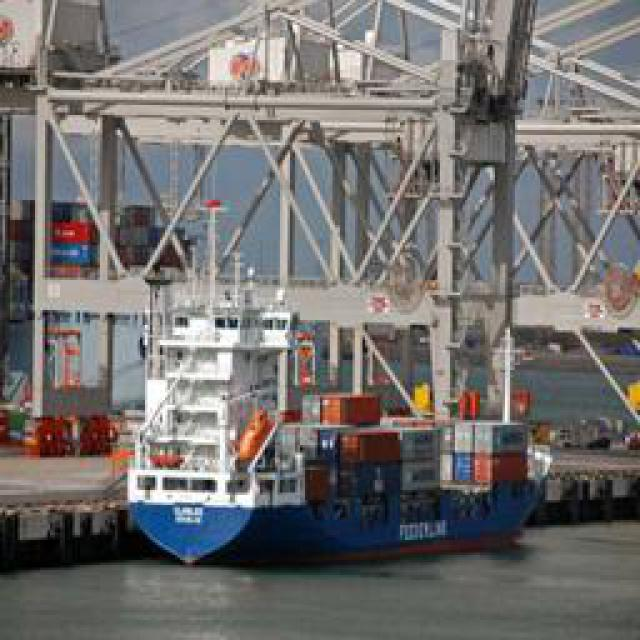Ship: (135, 181, 543, 571)
